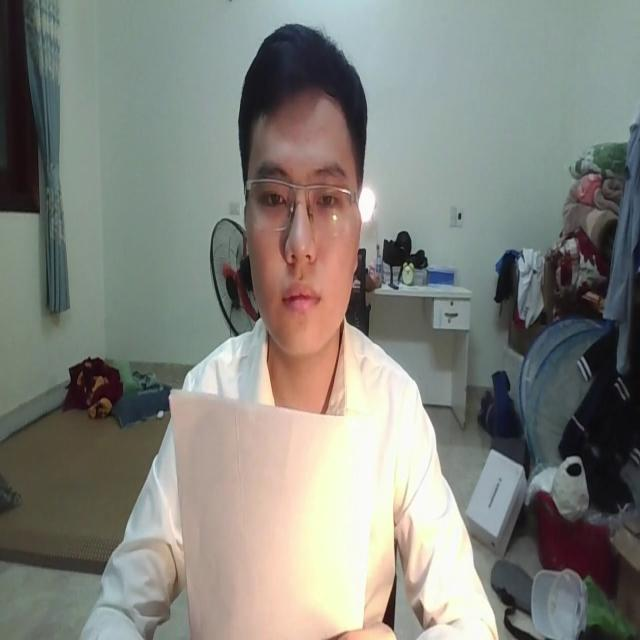book: (168, 382, 371, 614)
student: (193, 24, 416, 422)
